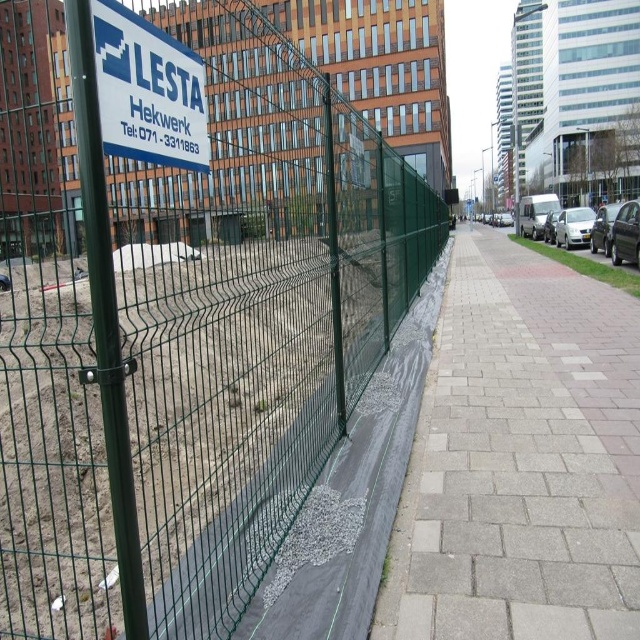obstacle: (158, 0, 640, 638)
